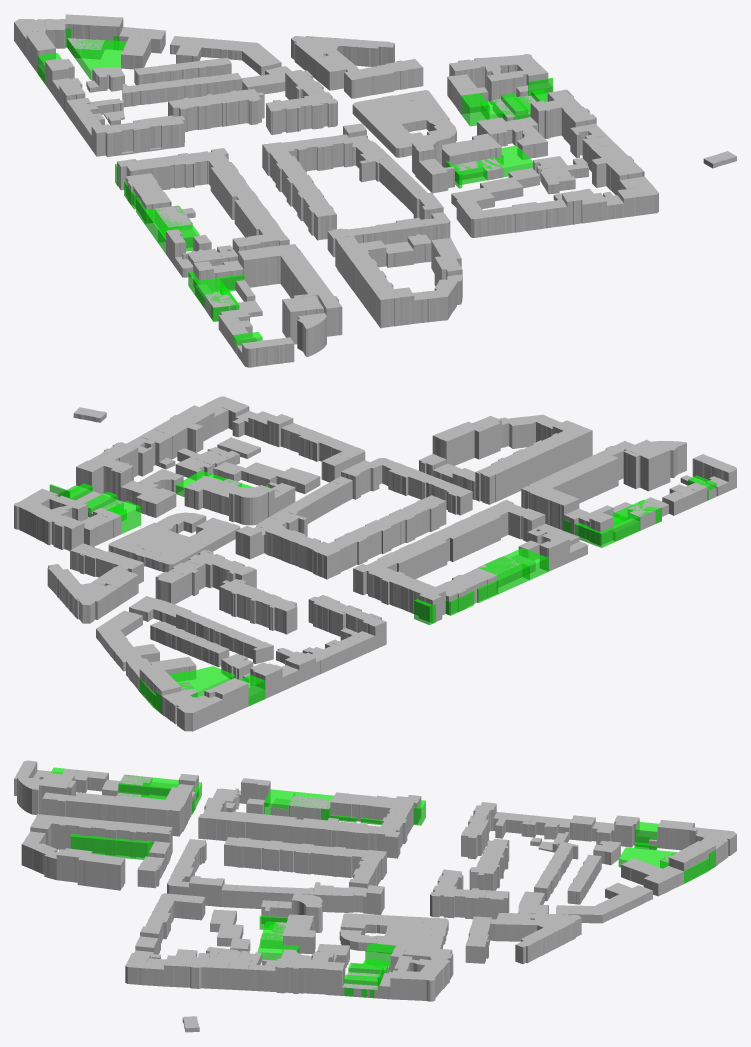
File: CityGML_XPlanVergleich.glb
3 renders of one model, top to bottom at view 1: azimuth 30°, elevation 25°; view 2: azimuth 150°, elevation 25°; view 3: azimuth 270°, elevation 25°, orthographic. The views are drawn at different scales.
Size of the model in its own units: 388 by 21 by 465.
